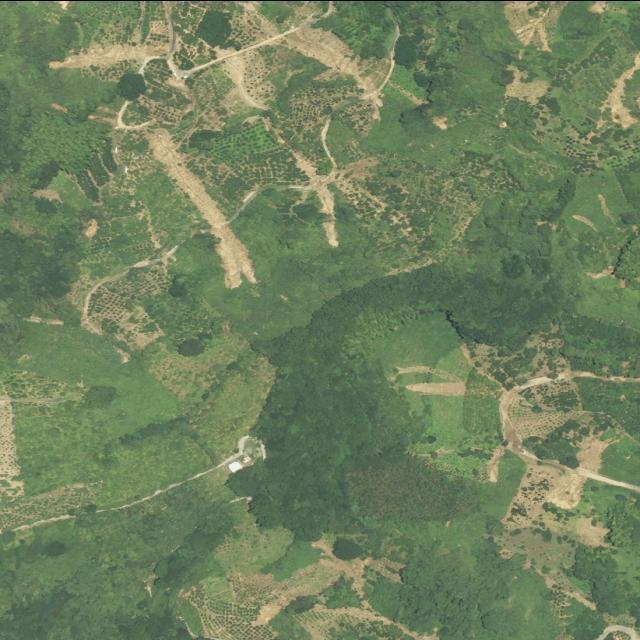landslide: (145, 127, 257, 287), (285, 26, 390, 90)
